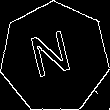N_S: (30, 28, 79, 87)
